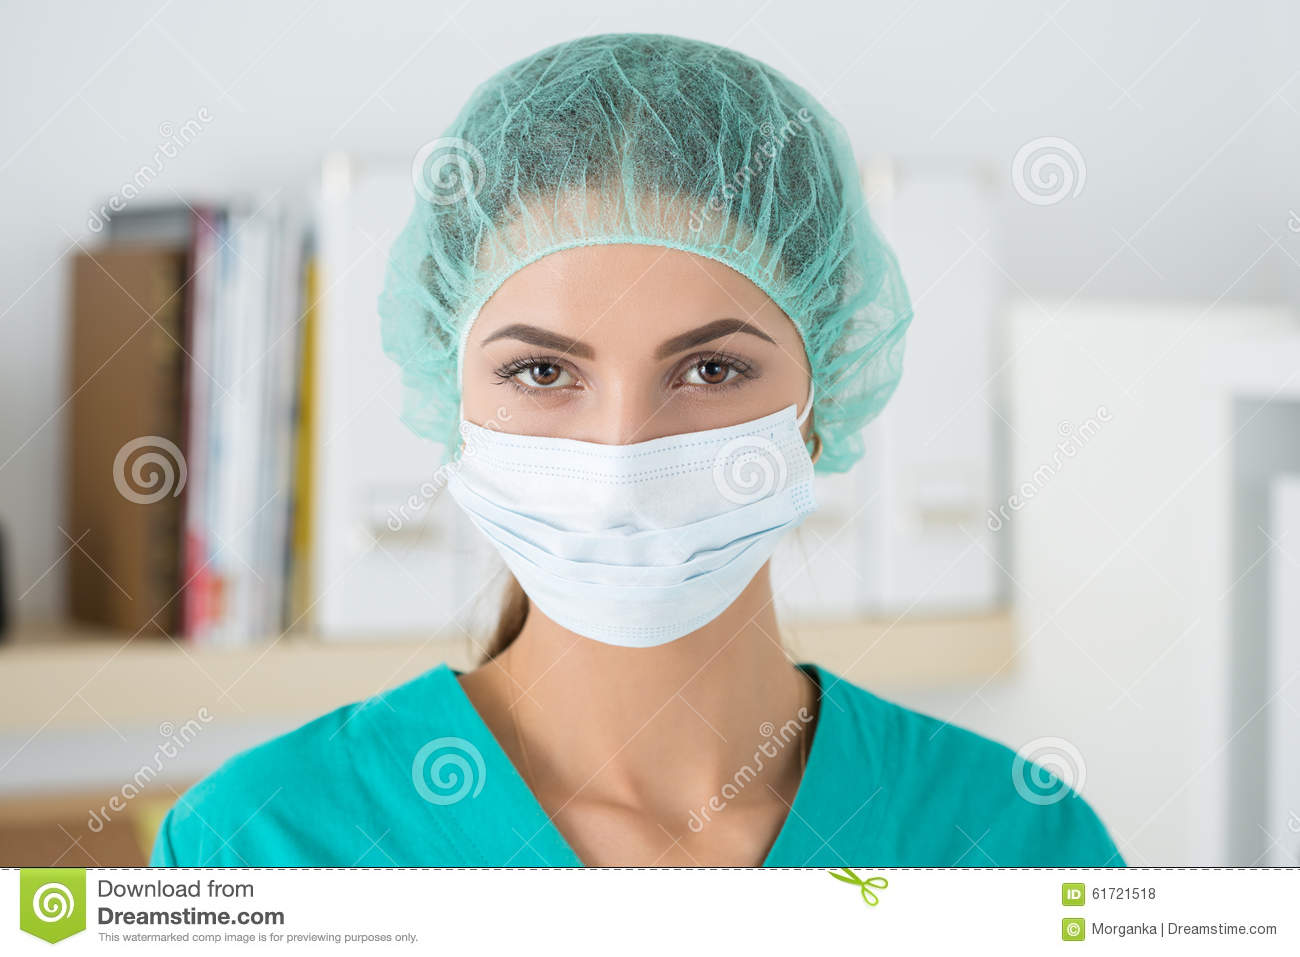mask: (447, 424, 813, 646)
